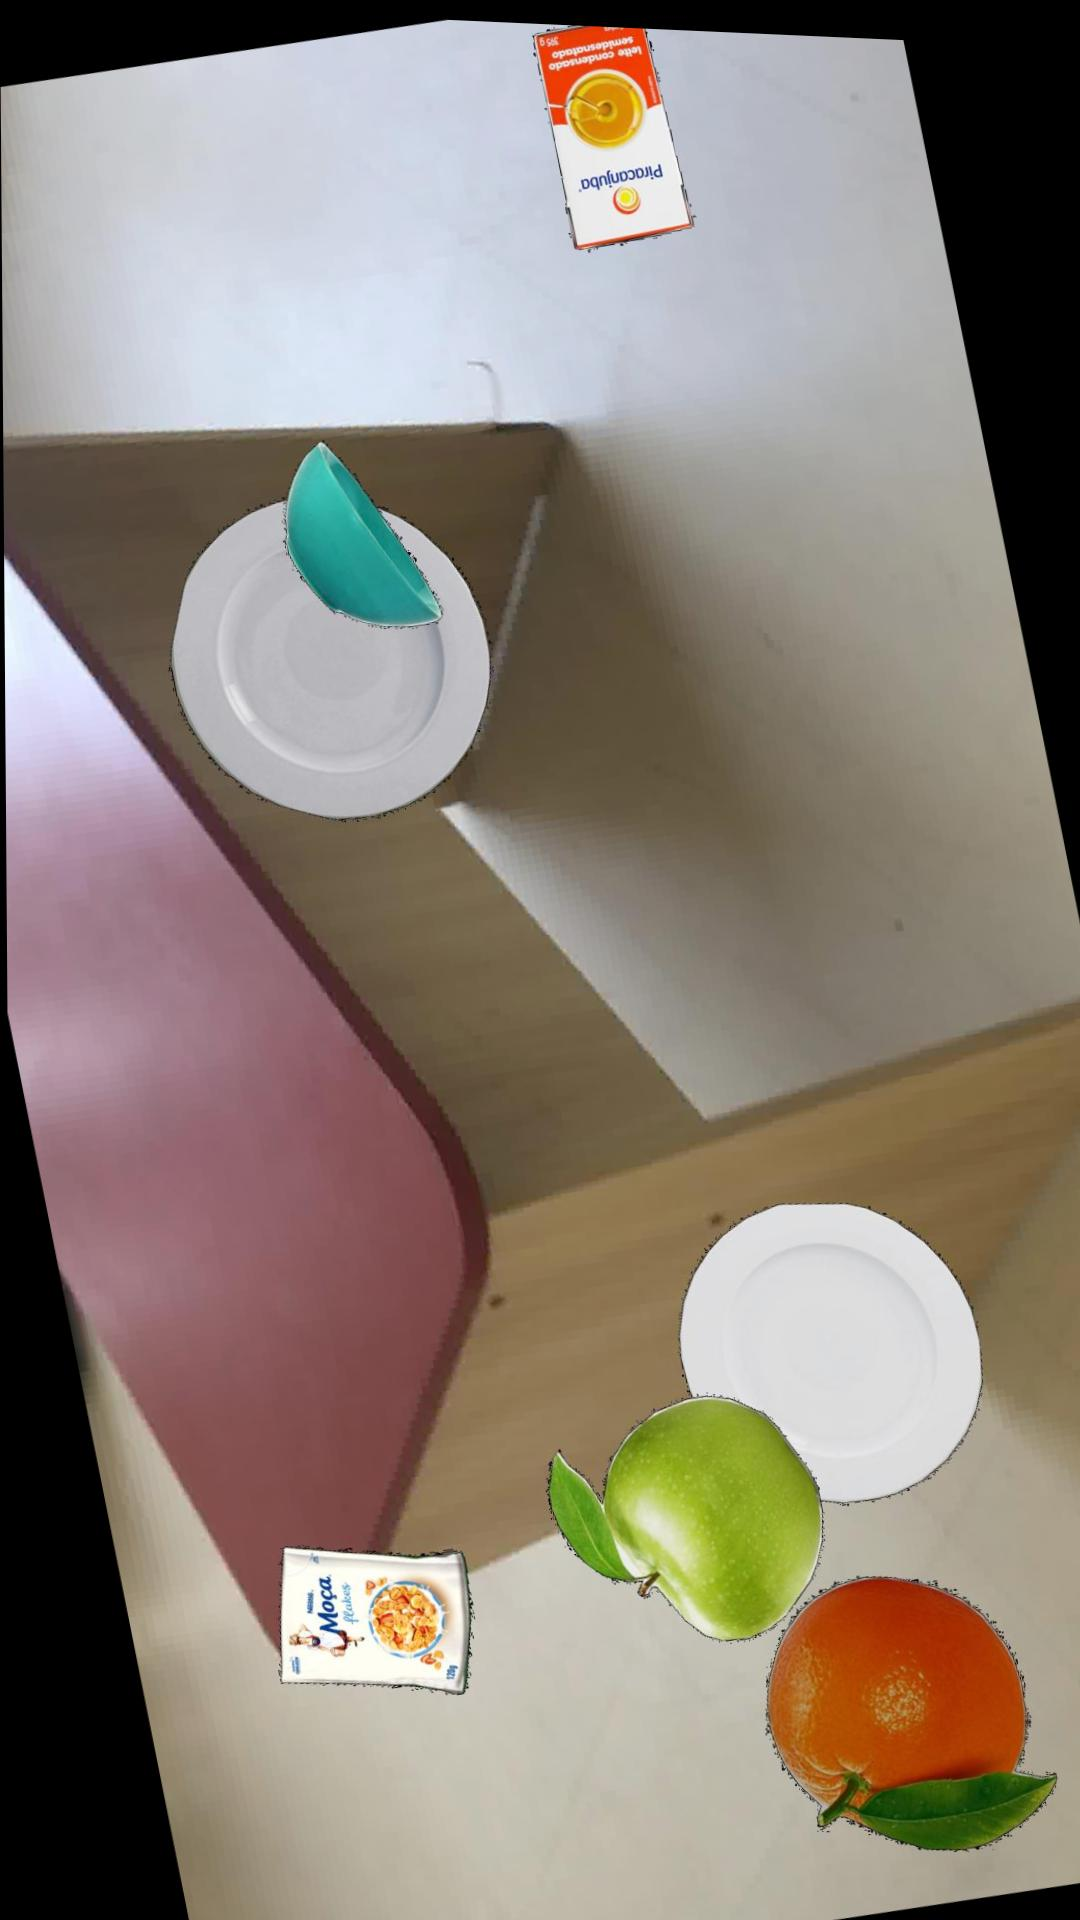bowl: (284, 436, 443, 622)
corn flakes: (278, 1542, 472, 1689)
green apple: (546, 1387, 823, 1633)
orange: (765, 1567, 1056, 1841)
plate: (170, 496, 491, 818), (678, 1193, 982, 1494)
